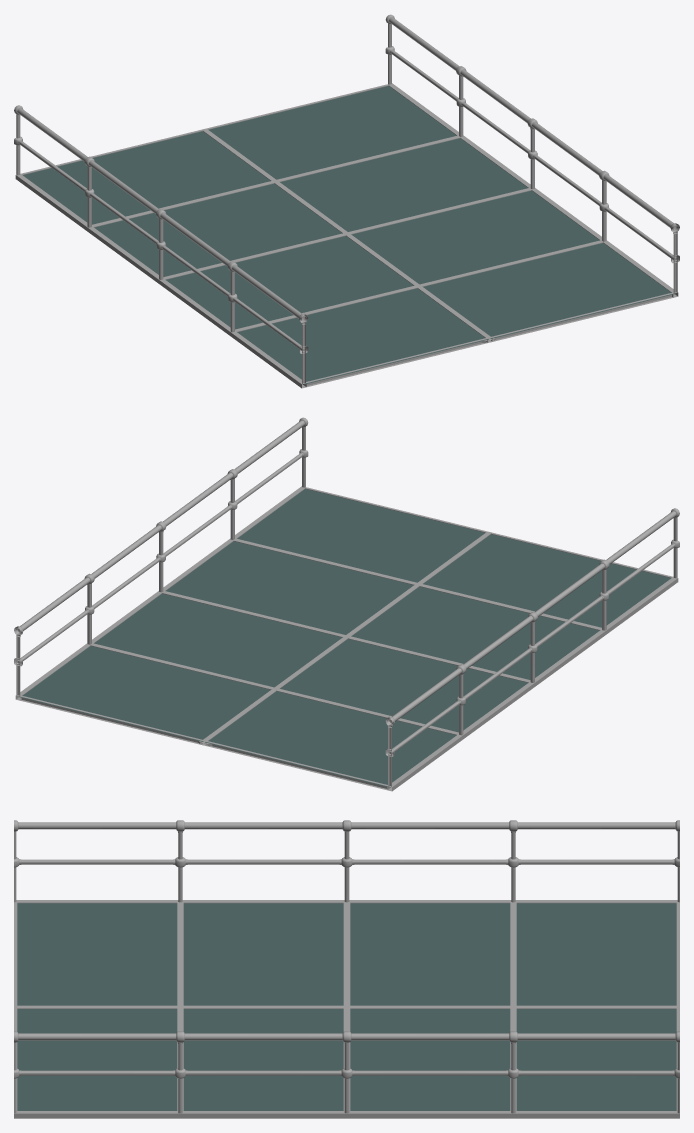
The model's file is L_RailWalk_Straight.fbx.
3 views of the same model, one above another, from view 1: azimuth 30°, elevation 25°; view 2: azimuth 150°, elevation 25°; view 3: azimuth 270°, elevation 25° (orthographic). The views are drawn at different scales.
Parts seen in each view (by area): view 1: Large_RampBottom08, Large_RampSideR, Large_RampSideL; view 2: Large_RampBottom08, Large_RampSideR, Large_RampSideL; view 3: Large_RampBottom08, Large_RampSideR, Large_RampSideL.
Boxes of the visible parts, x1,y1,x2,y2 form: Large_RampBottom08: (15, 83, 678, 388); Large_RampSideR: (385, 14, 679, 293); Large_RampSideL: (14, 105, 308, 383); Large_RampBottom08: (15, 486, 678, 791); Large_RampSideR: (14, 417, 308, 696); Large_RampSideL: (385, 508, 679, 786); Large_RampBottom08: (14, 900, 679, 1118); Large_RampSideR: (14, 1031, 679, 1113); Large_RampSideL: (14, 820, 679, 902).
Bounding box in the file's own units: 4.6 × 0.8457 × 6.
